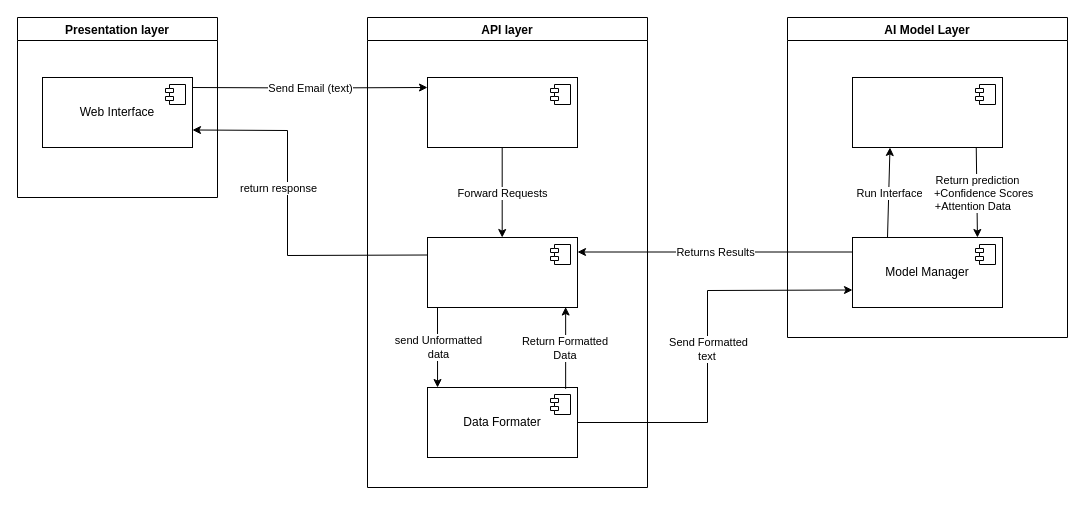
Image size: 1085x505. Some labels were removed from this diagram. Here are the shapes that lost their labels. From the top down, the centre of each, then its label:
At pixel 502 112: "Request Handler".
At pixel 927 112: "BERT Model".
At pixel 502 272: "Business logic".
